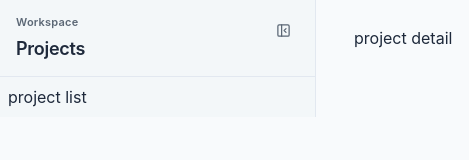
Scenario: PageShell › collapses and restores the context list
The width and height of the screenshot is (469, 160).
Later steps or results of the test are not shown.
Click the button named "Hide list": (283, 30) left=267, top=14, right=299, bottom=46
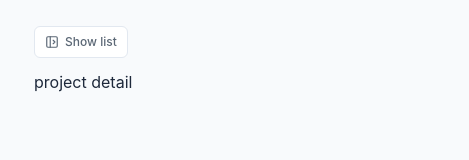
expect the element with class "console-shell" has class "sidebar-collapsed": met, box left=34, top=26, right=132, bottom=92
